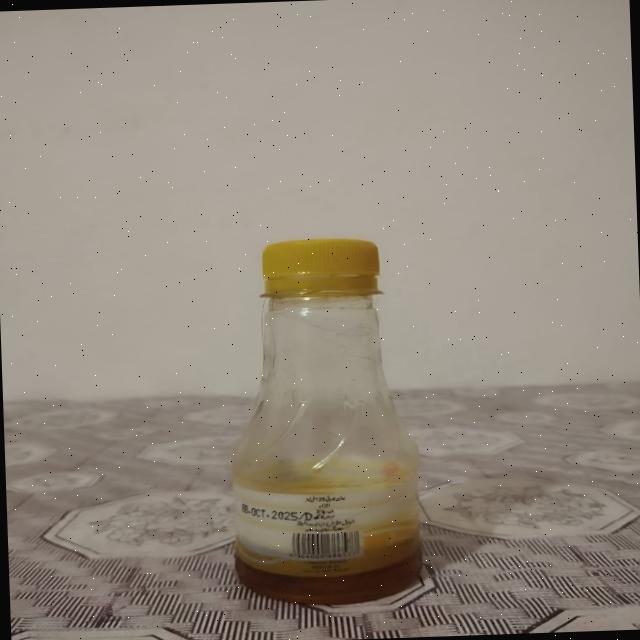bottle: (204, 222, 424, 618)
cap: (244, 228, 386, 311)
label: (205, 464, 432, 572)
